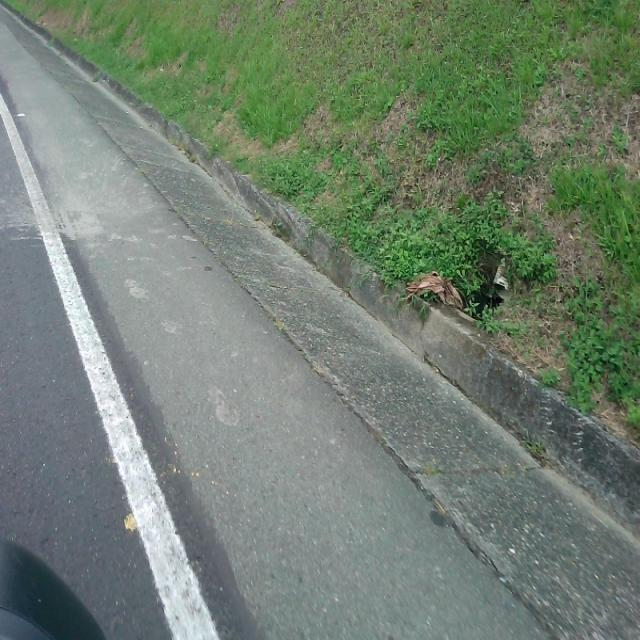DITCH: (1, 3, 639, 638)
